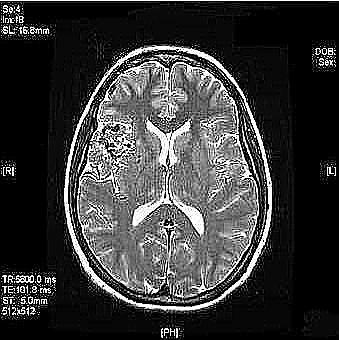Normal_Brain: (2, 2, 339, 340)
